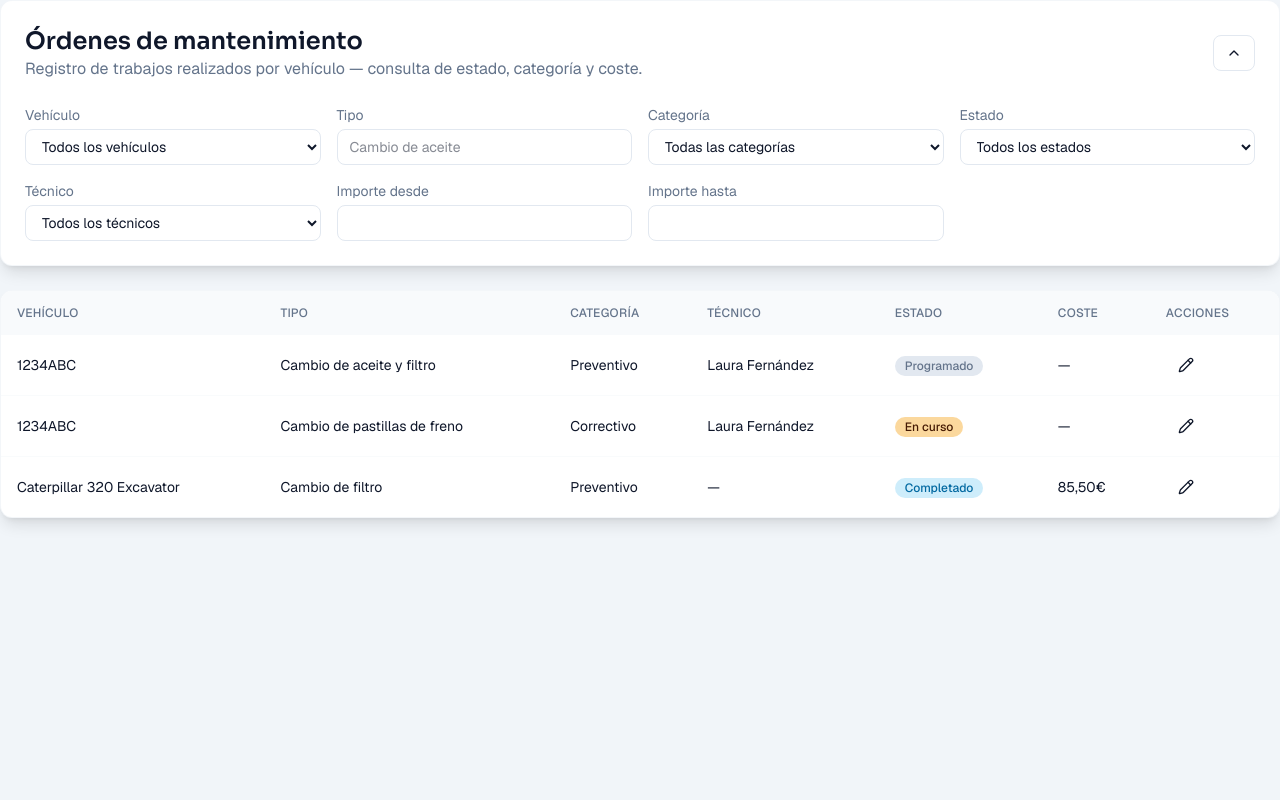
MaintenanceOrders › edits the cost of an in-progress maintenance order
This screenshot has width=1280, height=800.
Click the button named "editar orden" in the row of "Cambio de pastillas de freno" at [1186, 426], box [1166,408,1206,444]
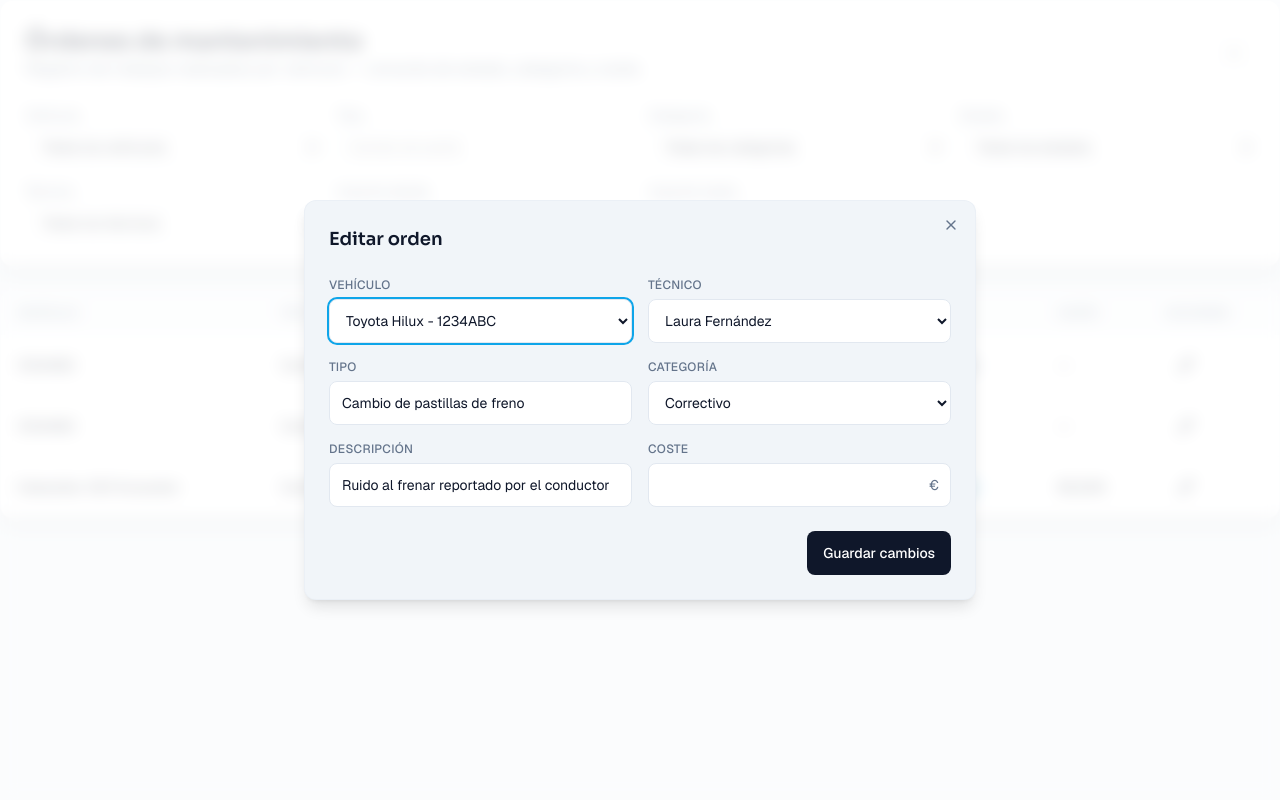
Expected: the heading "Editar orden" is shown, [329,228,443,250]
Type "75.25" into the number field labelled "Coste" at [800, 485], box [648,463,951,507]
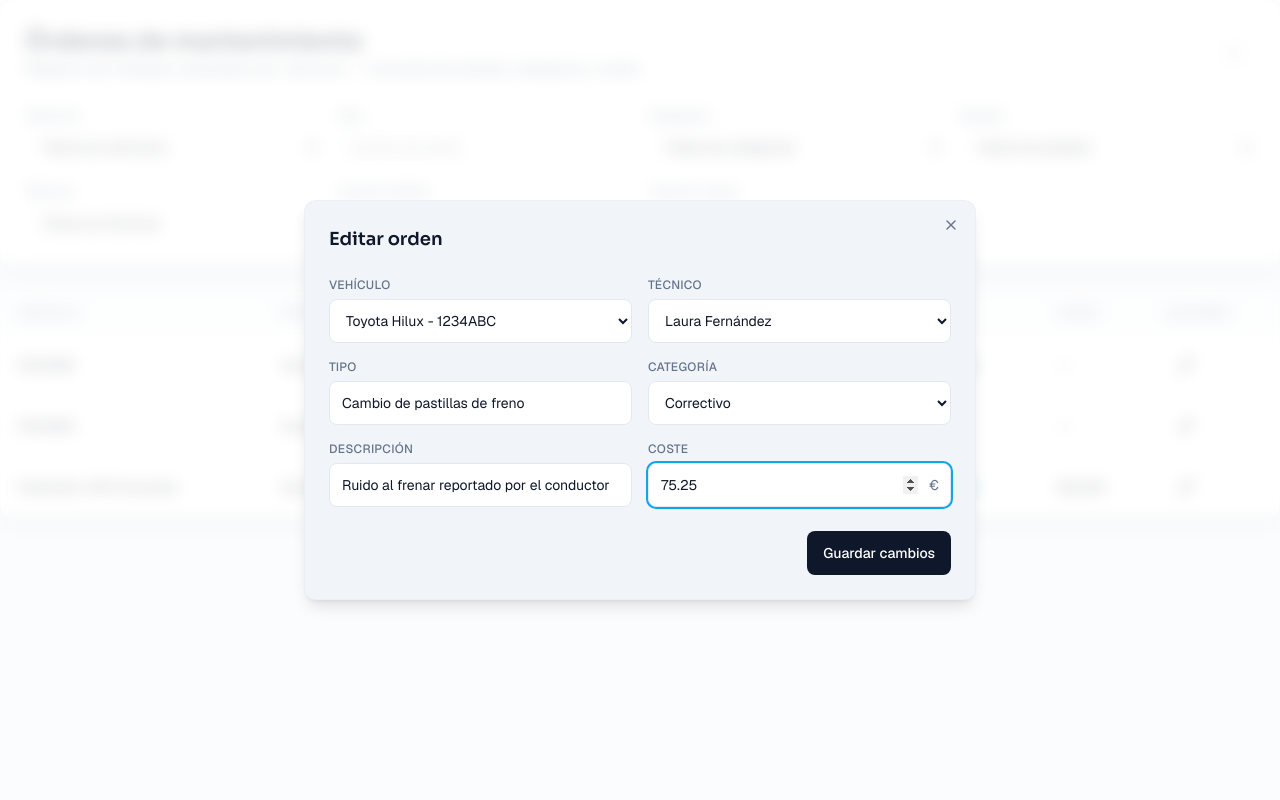
Click the button "Guardar cambios" at [879, 553], box [807,531,951,575]
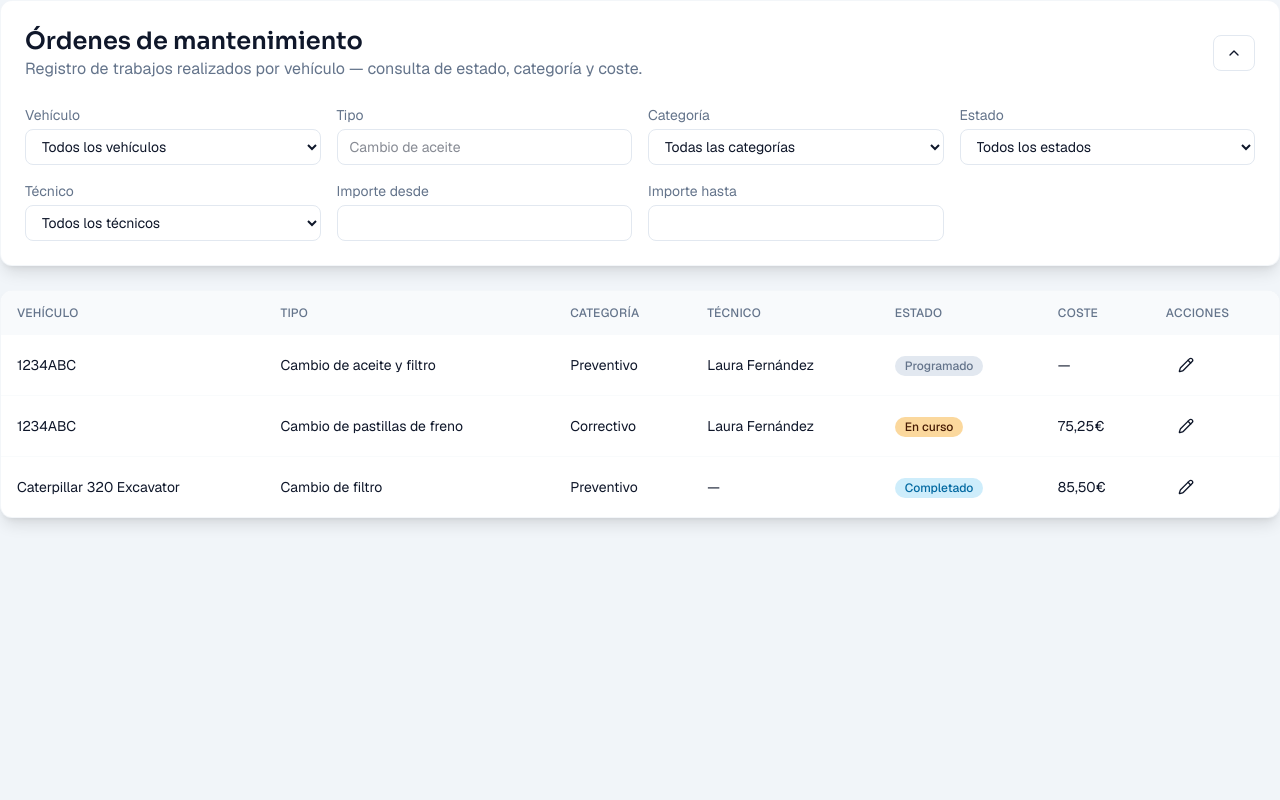
Expected: the heading "Editar orden" is gone
Expected: the text "75,25€" is shown, [1042,396,1150,456]
